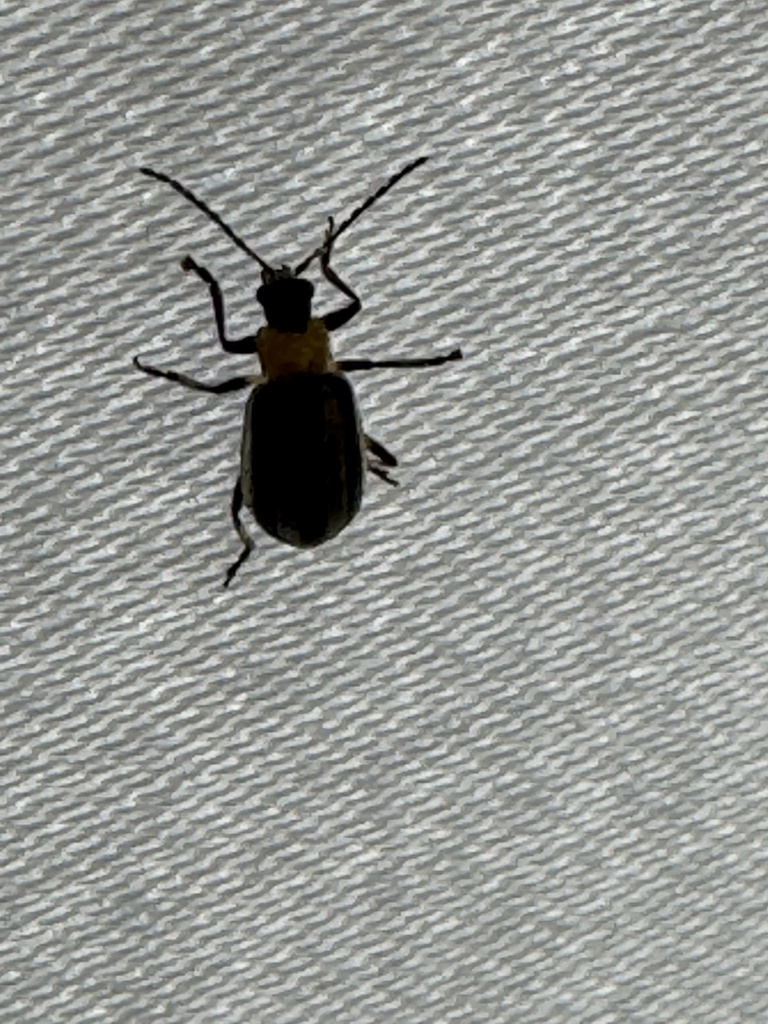potato_beetle: (0, 61, 570, 680)
